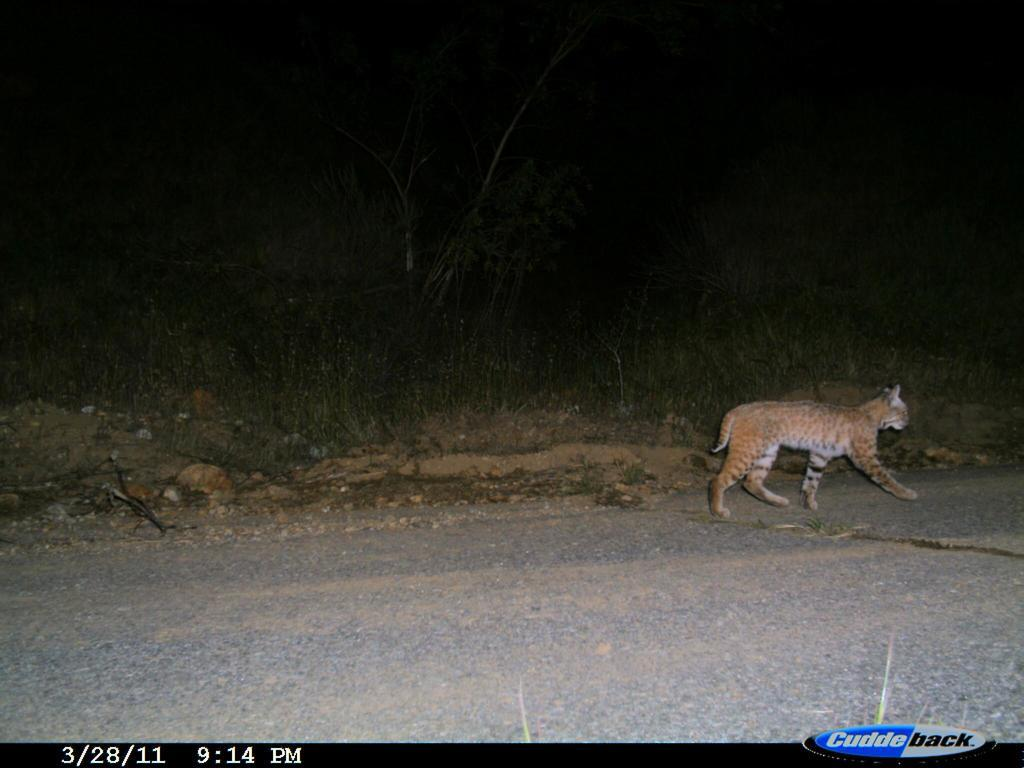bobcat: (699, 377, 932, 528)
